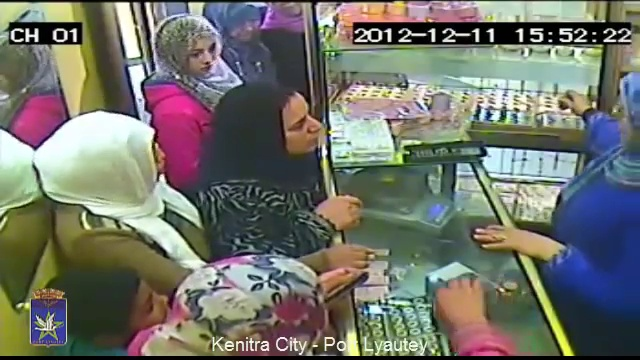face: (279, 100, 321, 153), (183, 38, 222, 73), (234, 18, 259, 41)
